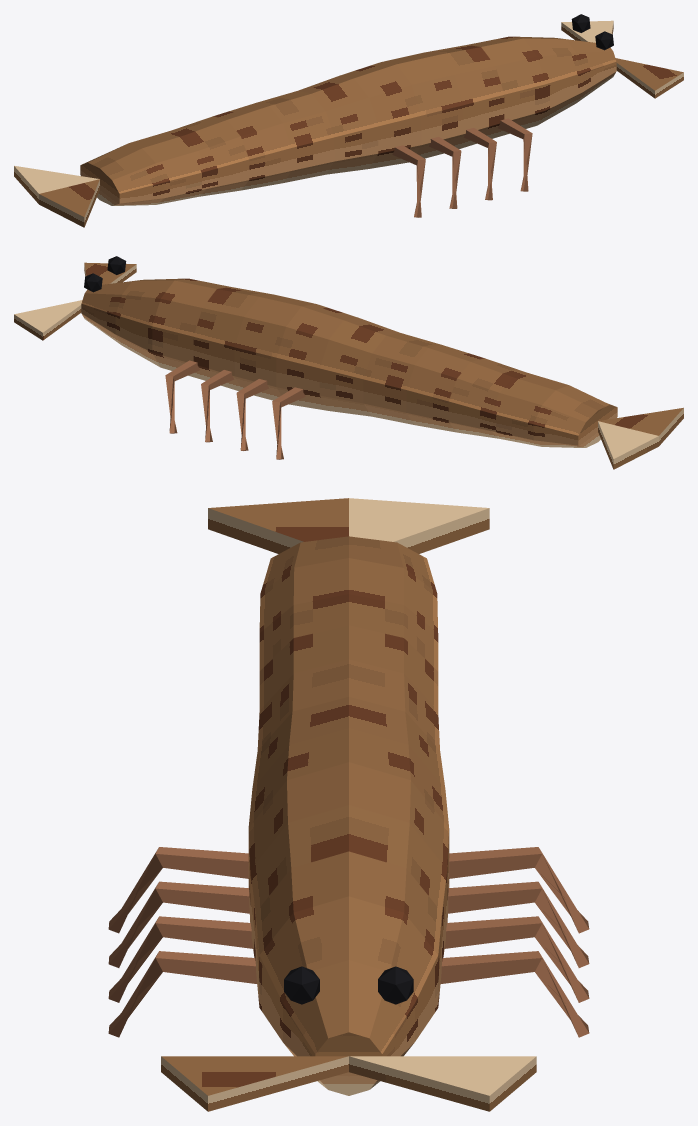
Rendered from balmain_bug.glb.
3 renders of one model, top to bottom at view 1: azimuth 30°, elevation 25°; view 2: azimuth 150°, elevation 25°; view 3: azimuth 270°, elevation 25°, orthographic. The views are drawn at different scales.
Visible parts, largest first — view 1: fish_balmain_bug; view 2: fish_balmain_bug; view 3: fish_balmain_bug.
Part boxes in pixels (<box>): fish_balmain_bug: <box>14,14,683,227</box>; fish_balmain_bug: <box>14,256,683,469</box>; fish_balmain_bug: <box>108,498,589,1111</box>.
Bounding box in the file's own units: 1.2 × 0.1934 × 0.4097.
3 materials, 1 textured.
